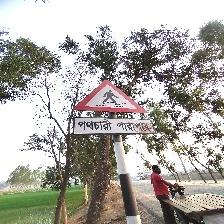Pedestrian-crossing: (71, 79, 154, 136)
